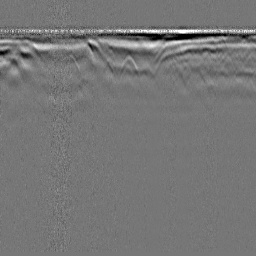cavity: (119, 52, 138, 73)
